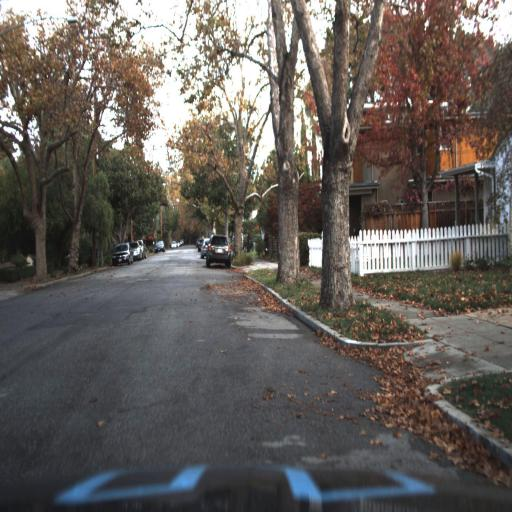car: (202, 232, 234, 272), (110, 240, 132, 266), (199, 234, 216, 264), (199, 230, 212, 263), (148, 235, 166, 257)
